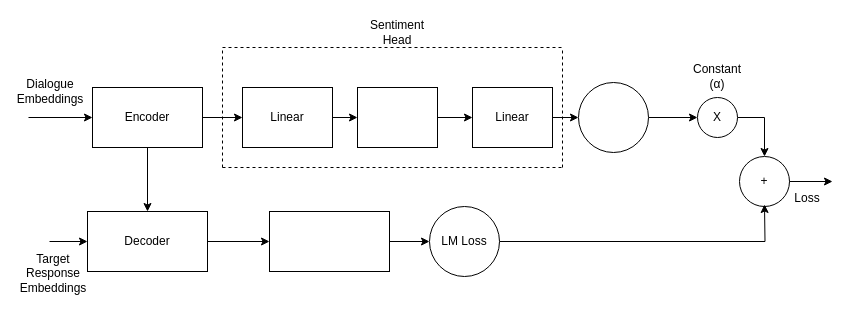
Image size: 858x312. Some labels were removed from this diagram. The shapes that lost their labels are listed below. From the top down, each one's box as (x1, y1, x2, y2) in pixels, then its label:
(356, 86, 438, 148): Relu
(578, 82, 648, 152): Sent Loss
(268, 210, 390, 272): Language Model(LM) Head
